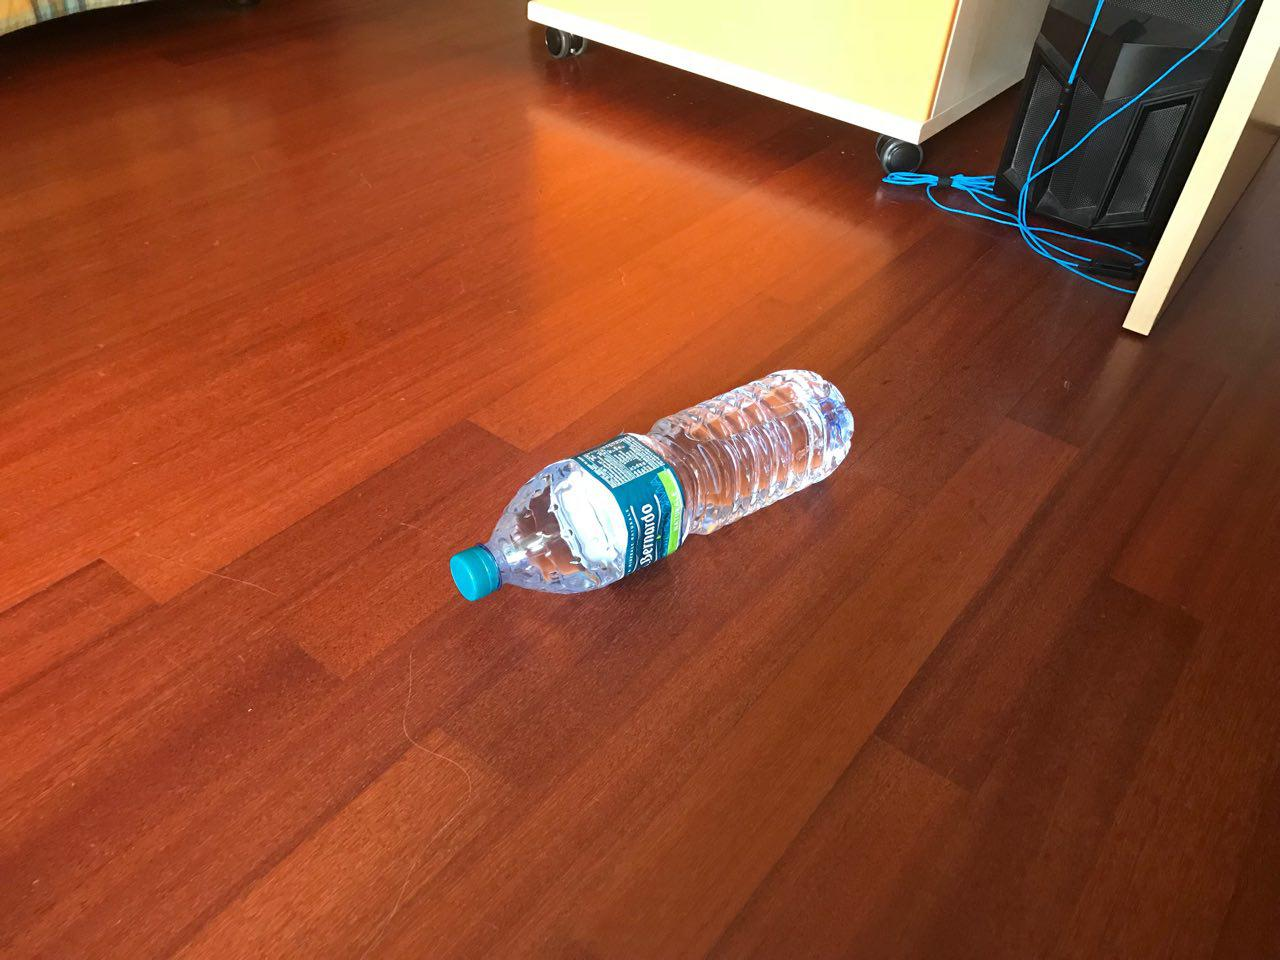san_bernardo: (446, 367, 857, 605)
